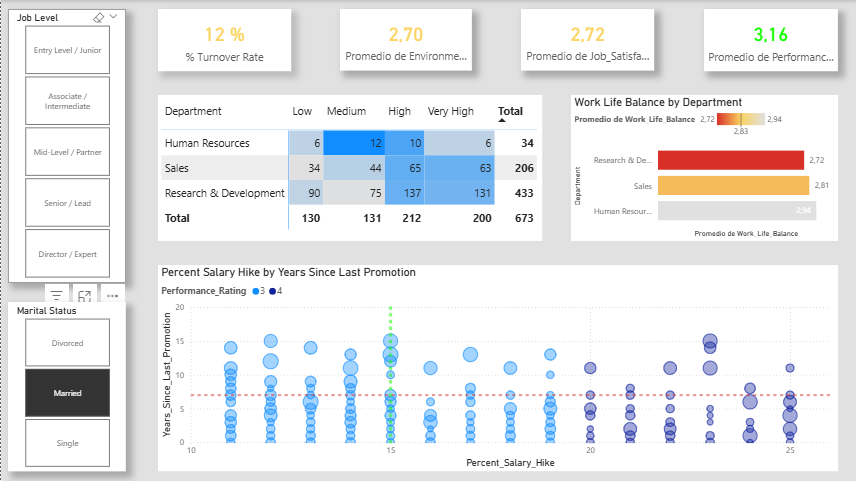

This screenshot's page, from the dashboard's own definition file:
{"tool":"powerbi","page":{"name":"Well-being and performance","canvas":[1280,720],"ordinal":2},"visuals":[{"type":"slicer","fields":{"Values":["Dim_JobDetails.Job_Level_Description"]},"box":[10.9,14,176.2,408.5],"z":0},{"type":"slicer","fields":{"Values":["Dim_Employee.Marital_Status"]},"box":[10.9,450.6,176.2,252.6],"z":1},{"type":"group","id":"g1","title":"Grupo 1","box":[234.5,13.4,1015.8,92.6],"z":6},{"type":"clusteredBarChart","title":"Work Life Balance by Department","fields":{"Category":["Dim_JobDetails.Department"],"Y":["Avg(Dim_Satisfaction.Work_Life_Balance)"]},"box":[851.5,141.9,398.8,218.1],"z":7},{"type":"pivotTable","fields":{"Columns":["Dim_Satisfaction.Job_Satisfaction_Description"],"Rows":["Dim_JobDetails.Department"],"Values":["_Measures.Total Employees"]},"box":[234.5,141.9,573.6,218.1],"z":8},{"type":"scatterChart","title":"Percent Salary Hike by Years Since Last Promotion","fields":{"Series":["Dim_PerformancePay.Performance_Rating"],"Size":["Avg(Dim_PerformancePay.Monthly_Income)"],"X":["Dim_PerformancePay.Percent_Salary_Hike"],"Y":["Dim_Tenure.Years_Since_Last_Promotion"]},"box":[234.5,395.9,1015.8,307.7],"z":9},{"type":"card","fields":{"Values":["Avg(Dim_Satisfaction.Job_Satisfaction)"]},"box":[777.4,13.4,199.3,92.3],"z":2000,"group":"g1"},{"type":"card","fields":{"Values":["Avg(Dim_Satisfaction.Environment_Satisfaction)"]},"box":[506.7,13.4,197.4,92.3],"z":3000,"group":"g1"},{"type":"card","fields":{"Values":["Avg(Dim_PerformancePay.Performance_Rating)"]},"box":[1050,13.4,200.3,92.6],"z":4000,"group":"g1"},{"type":"card","title":"Total Empoyees","fields":{"Values":["_Measures.% Turnover Rate"]},"box":[234.5,13.4,198.8,92.6],"z":5000,"group":"g1"}]}

Visuals, with their boxes on the page's 1280x720 design canvas (x1, y1, x2, y2). These are canvas units, not pixel positions in the 856x481 screenshot, which may show the page scaled, cropped or inside an application window:
slicer - Dim_JobDetails.Job_Level_Description: (11, 14, 187, 422)
slicer - Dim_Employee.Marital_Status: (11, 451, 187, 703)
"Grupo 1" group: (234, 13, 1250, 106)
"Work Life Balance by Department" clusteredBarChart: (852, 142, 1250, 360)
pivotTable - Dim_Satisfaction.Job_Satisfaction_Description x Dim_JobDetails.Department: (234, 142, 808, 360)
"Percent Salary Hike by Years Since Last Promotion" scatterChart: (234, 396, 1250, 704)
card - Avg(Dim_Satisfaction.Job_Satisfaction): (777, 13, 977, 106)
card - Avg(Dim_Satisfaction.Environment_Satisfaction): (507, 13, 704, 106)
card - Avg(Dim_PerformancePay.Performance_Rating): (1050, 13, 1250, 106)
"Total Empoyees" card: (234, 13, 433, 106)
